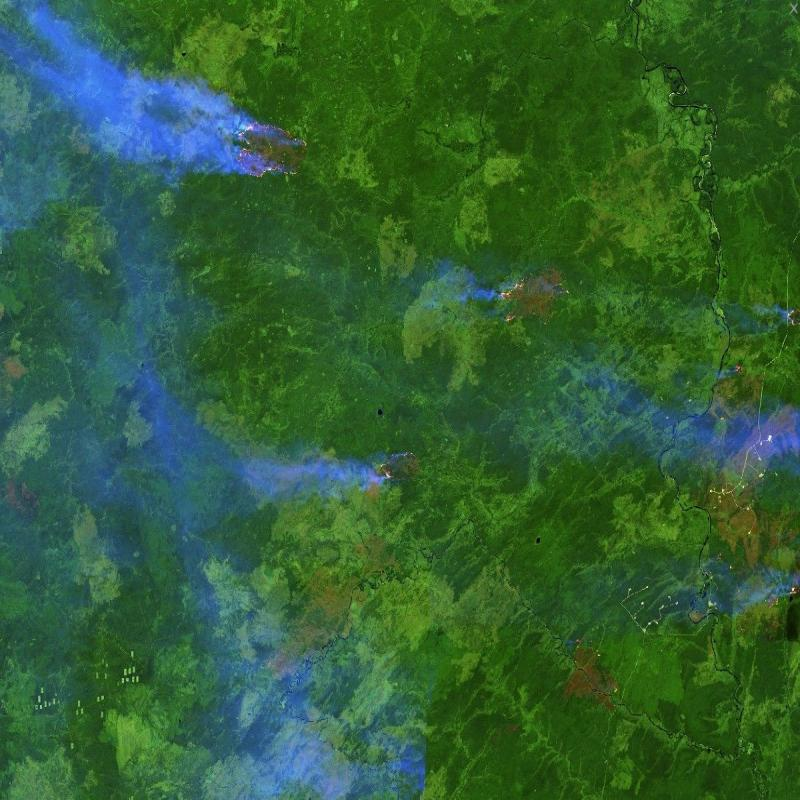fire: (232, 110, 310, 183), (491, 268, 544, 332), (376, 444, 422, 486), (782, 303, 800, 335), (784, 575, 800, 606), (730, 355, 746, 378)
